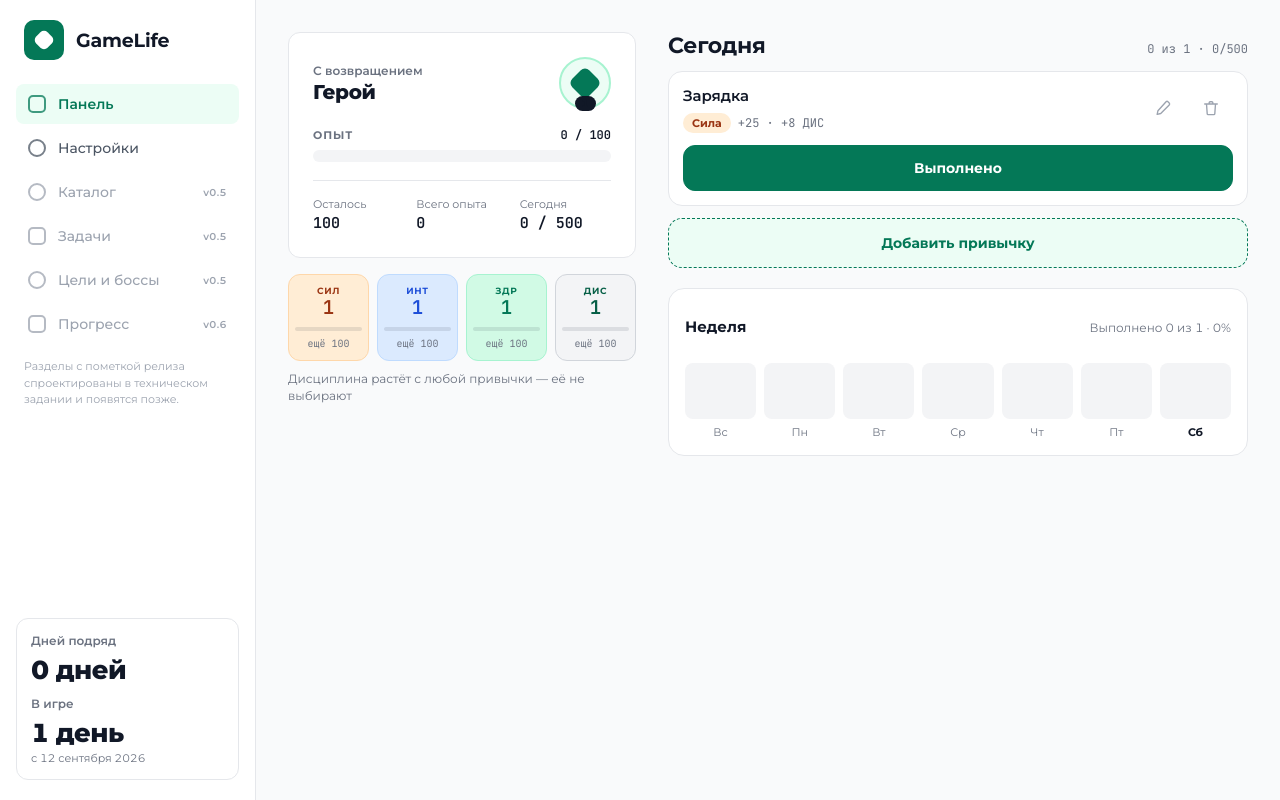
живые действия › выполнение меняет экран и уходит в хранилище
The width and height of the screenshot is (1280, 800).
Step 1. Click the button with aria-label "Отметить выполненной" → [958, 168], box [683,145,1233,191]
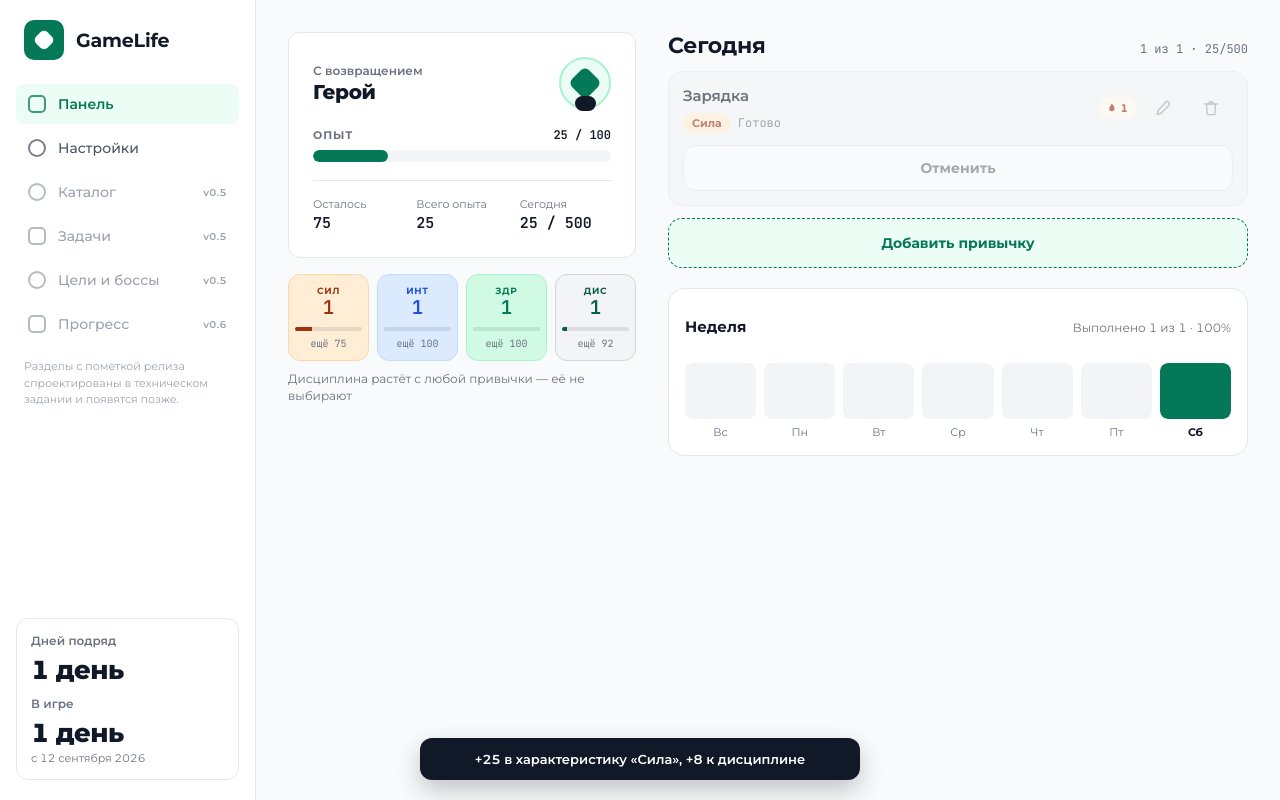
Result: the button with aria-label "Отменить выполнение" is shown at [683,145,1233,191]
